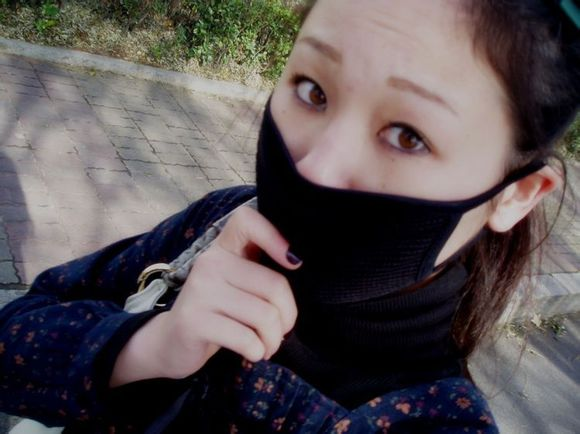face_mask: (255, 1, 497, 280)
